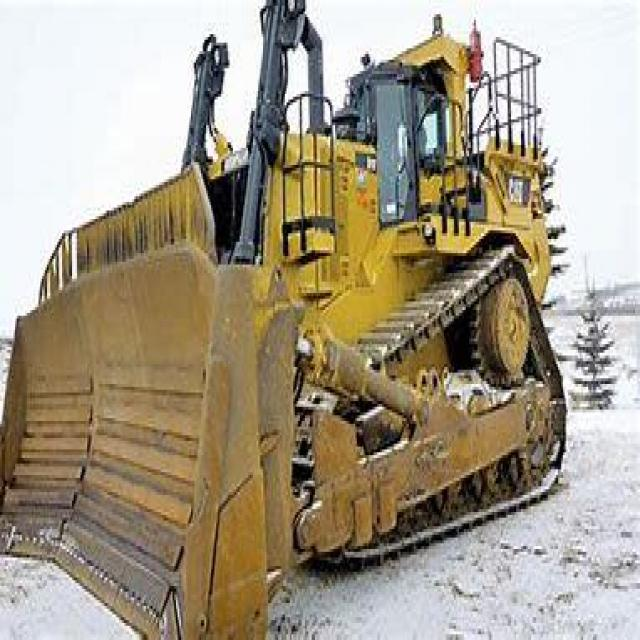Bulldozer: (10, 12, 581, 638)
